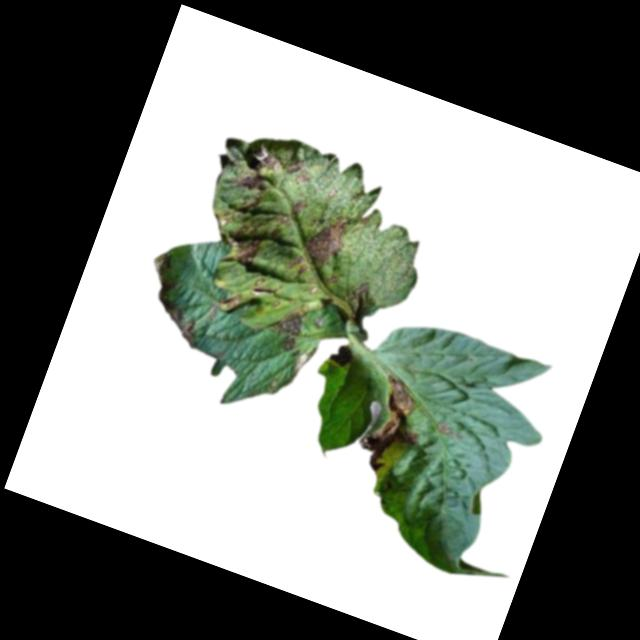Early_blight: (351, 369, 438, 483), (285, 202, 356, 286), (226, 138, 288, 215), (220, 215, 275, 272), (159, 302, 206, 348), (268, 303, 308, 352), (342, 279, 378, 322), (283, 154, 313, 187), (432, 420, 465, 441)
